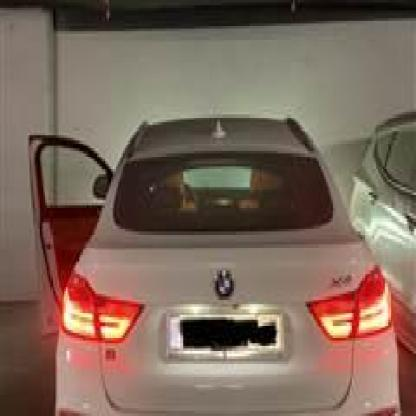Car: (8, 93, 391, 416), (343, 96, 416, 372)
